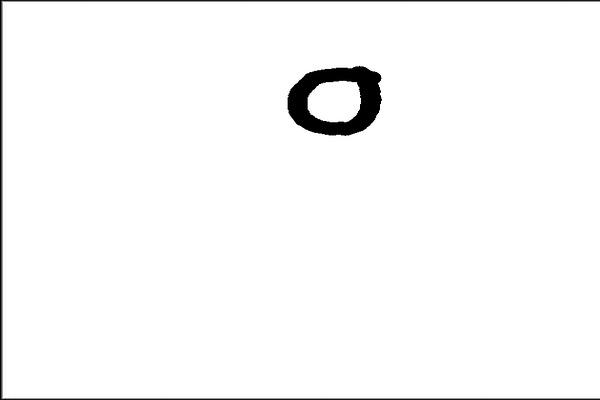O: (270, 54, 390, 146)
